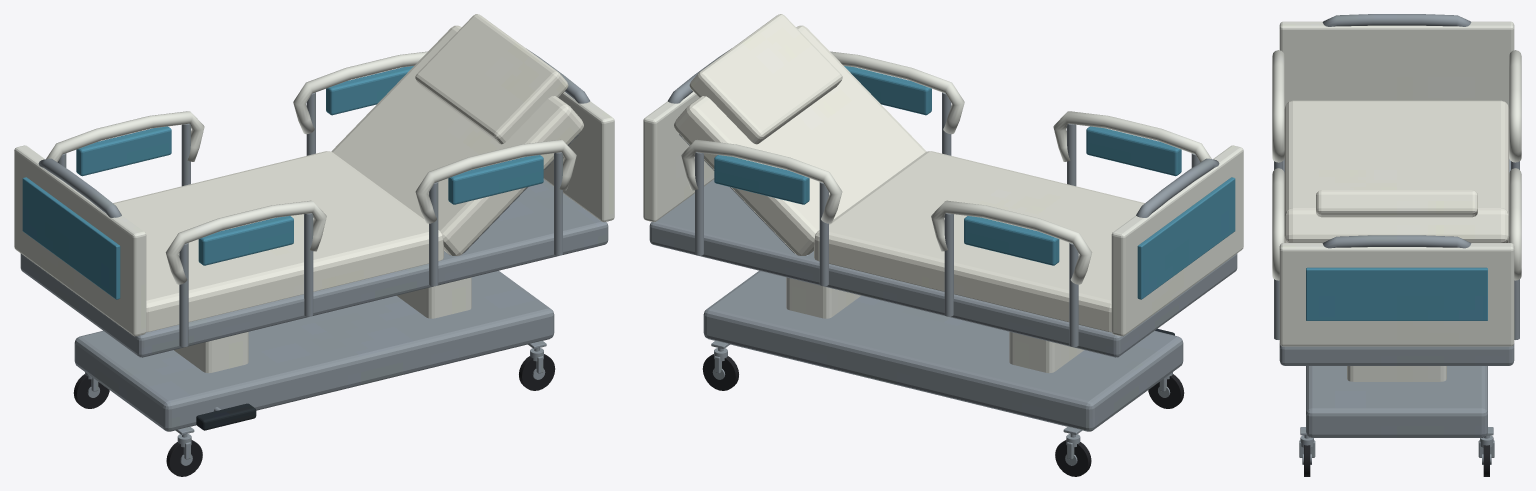
The model's file is hospital-bed-raised-backrest.glb.
3 views of the same model, side by side, from view 1: azimuth 30°, elevation 25°; view 2: azimuth 150°, elevation 25°; view 3: azimuth 270°, elevation 25° (orthographic). The views are drawn at different scales.
Parts seen in each view (by area): view 1: Patient bed rolling base, Mattress leg and seat section, Raised mattress backrest, Bed mattress platform, Raised pillow, Bed end panel, Inset end panel, Bed end panel.001, Side rail center panel.001, Side rail center panel, Side rail center panel.002, Bed side safety rail.001 (+15 smaller); view 2: Patient bed rolling base, Mattress leg and seat section, Raised mattress backrest, Bed mattress platform, Raised pillow, Bed end panel, Inset end panel, Bed end panel.001, Side rail center panel.003, Side rail center panel.002, Side rail center panel, Bed side safety rail.003 (+14 smaller); view 3: Mattress leg and seat section, Bed end panel, Bed end panel.001, Patient bed rolling base, Inset end panel.001, Raised mattress backrest, Bed mattress platform, Raised pillow, End lifting grip.001, End lifting grip, Lift pedestal.001, Bed side safety rail (+5 smaller).
Part boxes in pixels (x1,y1,x2,y2): Patient bed rolling base: (74, 270, 554, 431); Mattress leg and seat section: (113, 151, 443, 332); Raised mattress backrest: (331, 25, 583, 255); Bed mattress platform: (20, 179, 608, 357); Raised pillow: (415, 14, 568, 144); Bed end panel: (14, 145, 146, 336); Inset end panel: (22, 177, 120, 299); Bed end panel.001: (543, 91, 614, 222); Side rail center panel.001: (448, 155, 543, 204); Side rail center panel: (198, 216, 293, 265); Side rail center panel.002: (76, 126, 171, 176); Bed side safety rail.001: (415, 139, 576, 223); Patient bed rolling base: (703, 270, 1183, 431); Mattress leg and seat section: (814, 151, 1144, 332); Raised mattress backrest: (674, 25, 926, 255); Bed mattress platform: (649, 179, 1237, 357); Raised pillow: (689, 14, 842, 144); Bed end panel: (1111, 145, 1243, 336); Inset end panel: (1137, 177, 1235, 299); Bed end panel.001: (643, 91, 714, 222); Side rail center panel.003: (714, 155, 809, 204); Side rail center panel.002: (964, 216, 1059, 265); Side rail center panel: (1086, 126, 1181, 176); Bed side safety rail.003: (681, 139, 842, 223); Mattress leg and seat section: (1284, 100, 1509, 215); Bed end panel: (1279, 21, 1514, 108); Bed end panel.001: (1279, 243, 1514, 346); Patient bed rolling base: (1306, 366, 1487, 437); Inset end panel.001: (1306, 267, 1487, 320); Raised mattress backrest: (1284, 208, 1509, 242); Bed mattress platform: (1279, 159, 1514, 365); Raised pillow: (1316, 190, 1477, 217); End lifting grip.001: (1322, 235, 1471, 248); End lifting grip: (1322, 14, 1471, 26); Lift pedestal.001: (1347, 366, 1446, 381); Bed side safety rail: (1272, 50, 1284, 162).
Size of the model in its own units: 2.2 by 1.31 by 1.
Materials: 6 (6 with a texture image).
